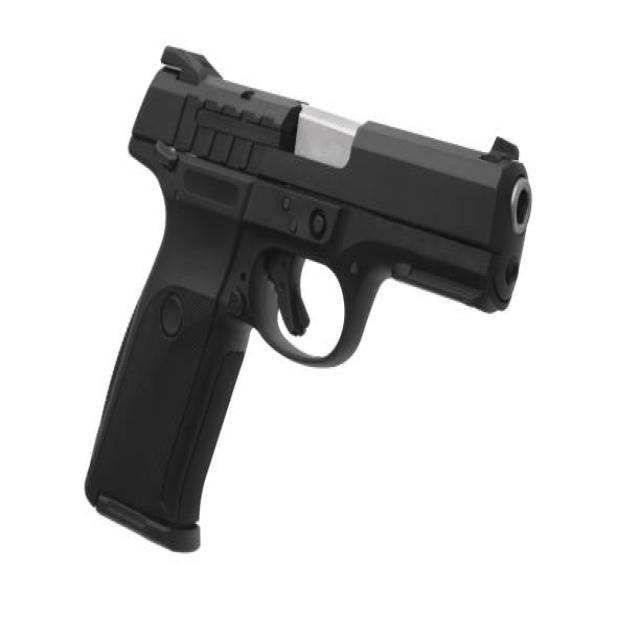pistol: (79, 35, 537, 570)
